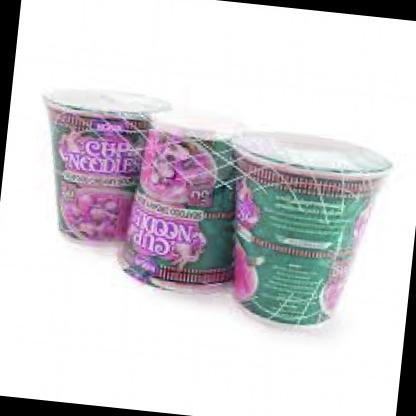Ramen: (210, 121, 386, 341), (126, 101, 267, 301), (37, 77, 173, 256)
